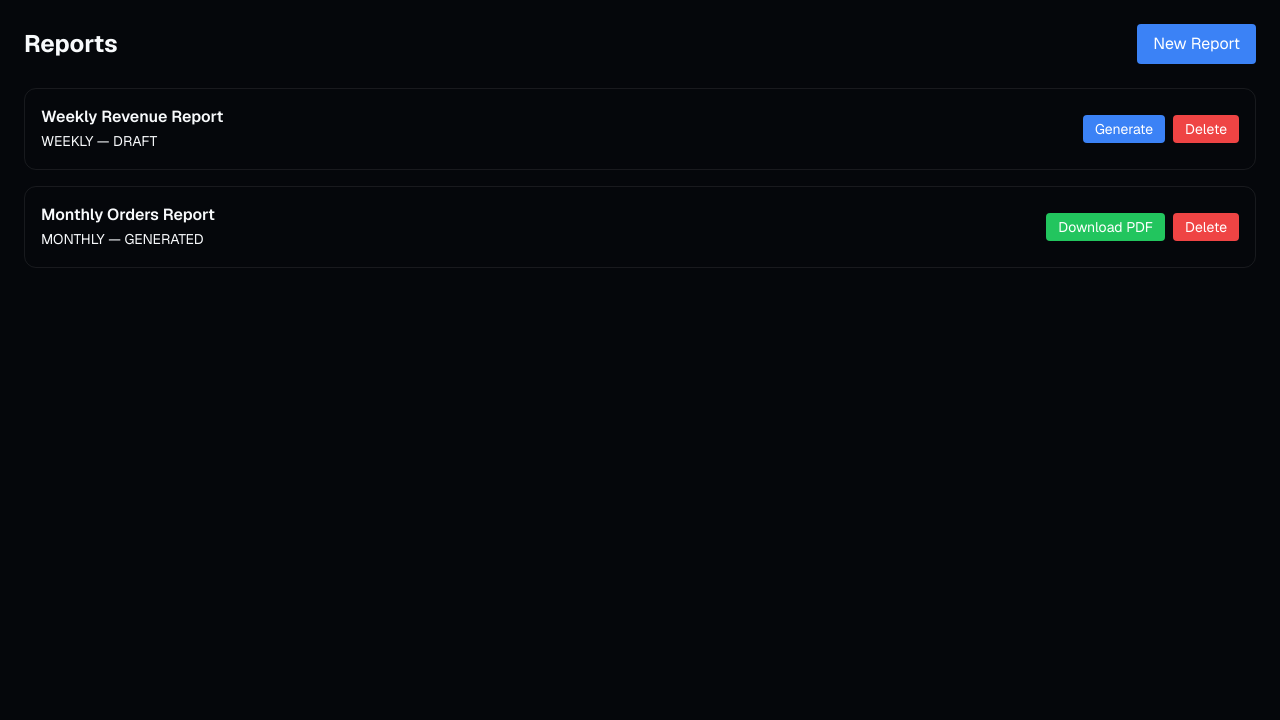
Scenario: Reports page (T130) › keeps Create disabled until the report has a dataset and at least one metric
The width and height of the screenshot is (1280, 720).
Step 1. Click the button "New Report" → (1197, 44), box [1137, 24, 1256, 64]
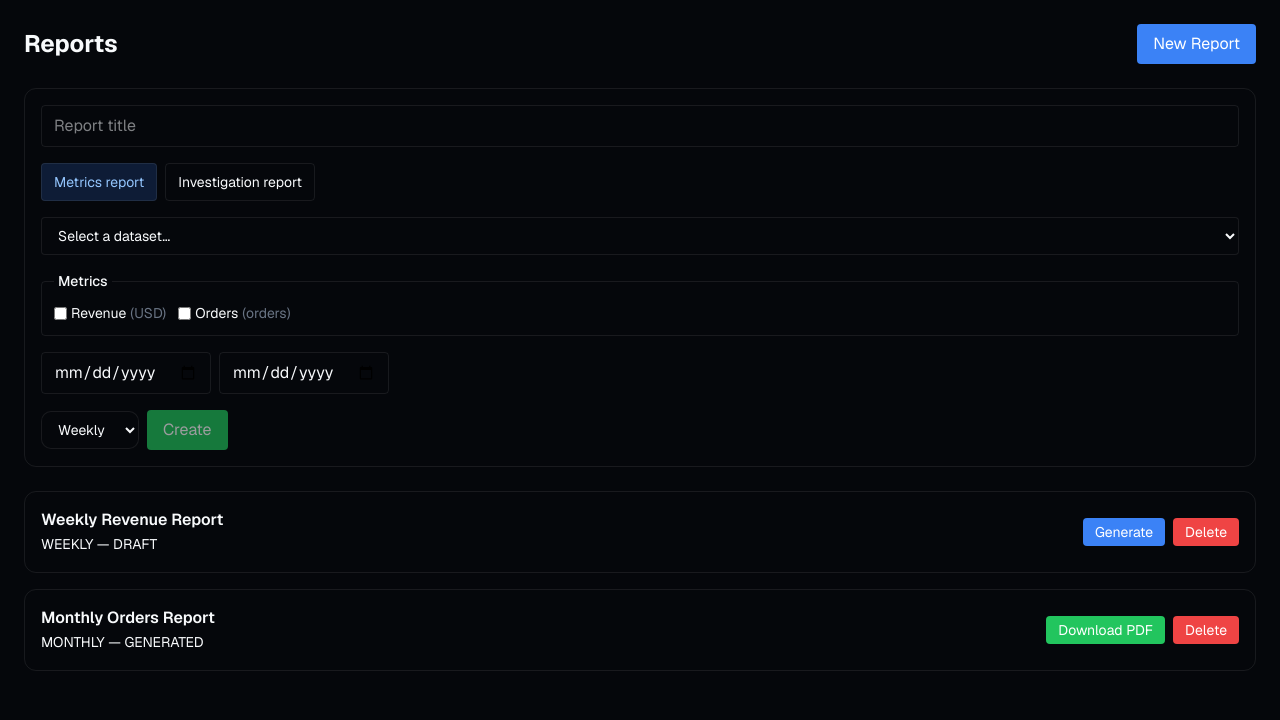
Expected: the button "Create" is disabled, [147, 410, 228, 450]
Step 2. Type "Untitled" into the field labelled "Report title" → (640, 126), box [41, 105, 1239, 147]
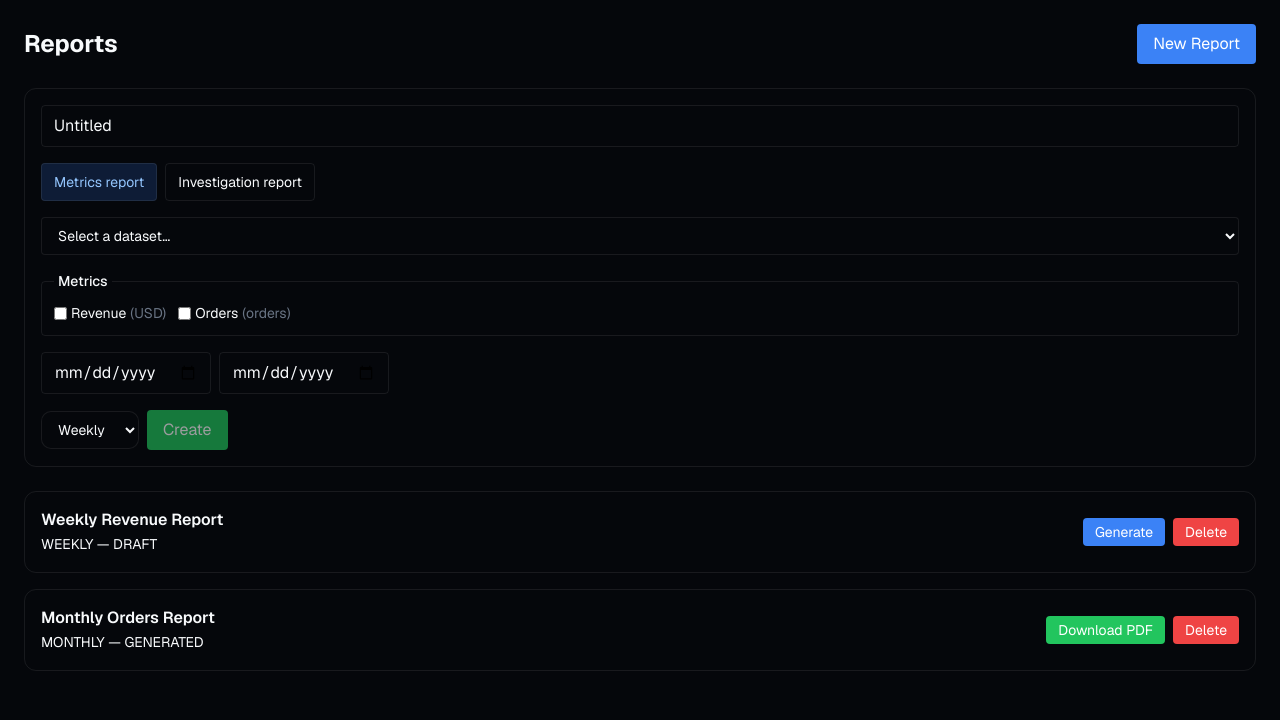
Expected: the button "Create" is disabled, [147, 410, 228, 450]
Step 3. Select "Sales (1,200 rows)" in the dropdown named "Dataset" → (640, 236), box [41, 217, 1239, 255]
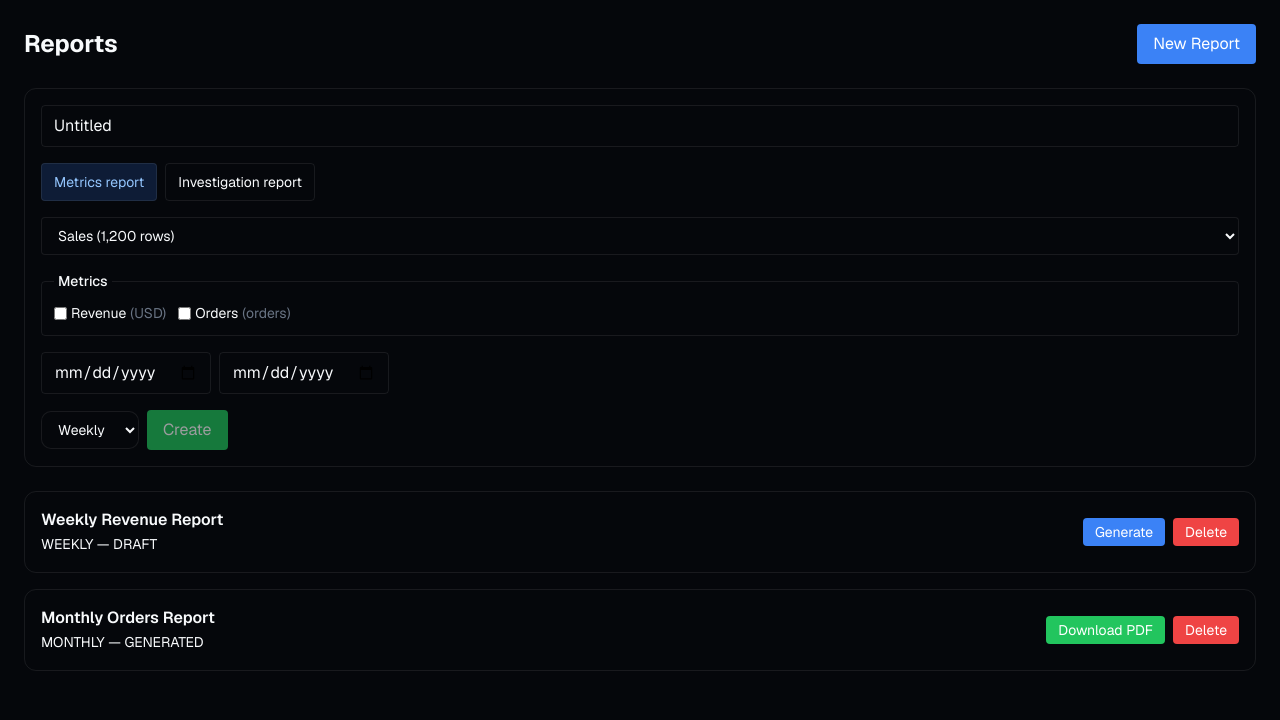
Expected: the button "Create" is disabled, [147, 410, 228, 450]
Step 4. Click the checkbox labelled "Revenue (USD)" → (60, 313), box [54, 306, 67, 320]
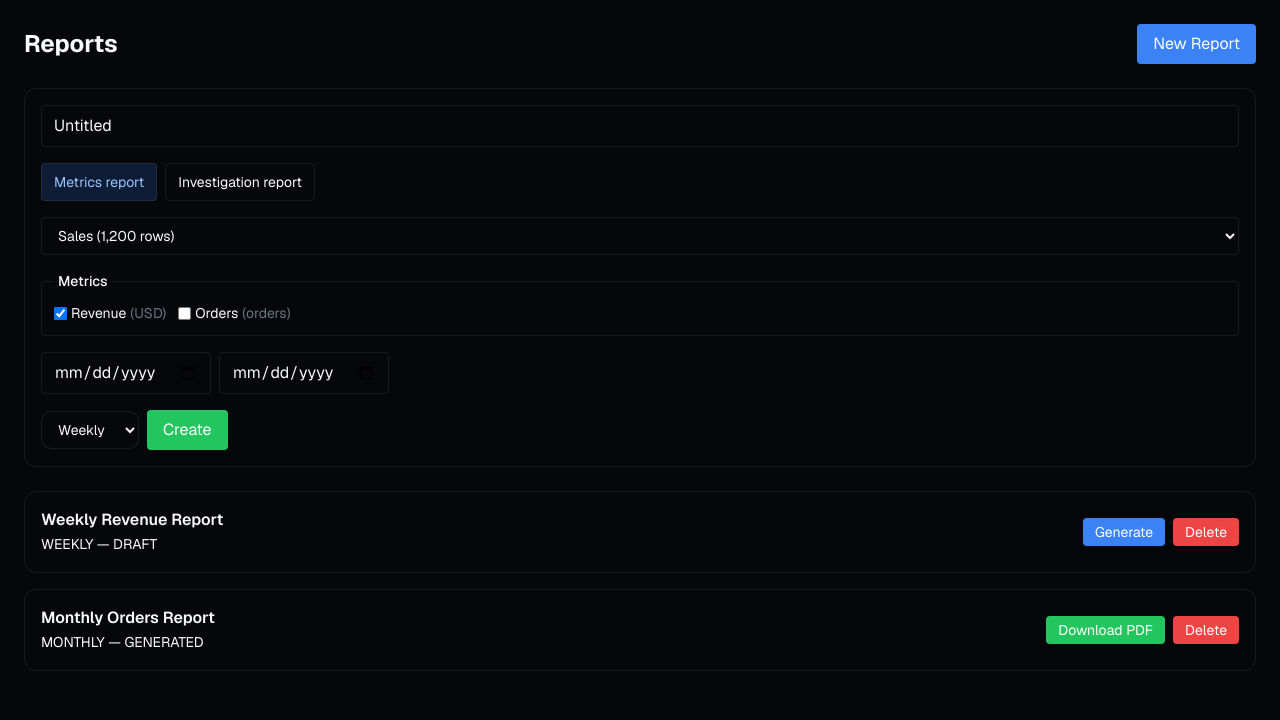
Expected: the button "Create" is enabled, [147, 410, 228, 450]
